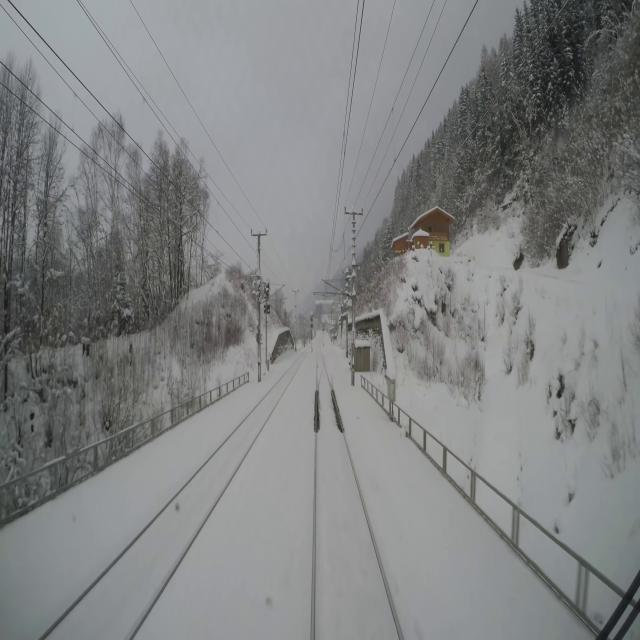rail-track: (47, 360, 300, 639), (316, 370, 399, 639), (326, 352, 335, 374), (318, 348, 322, 373)
